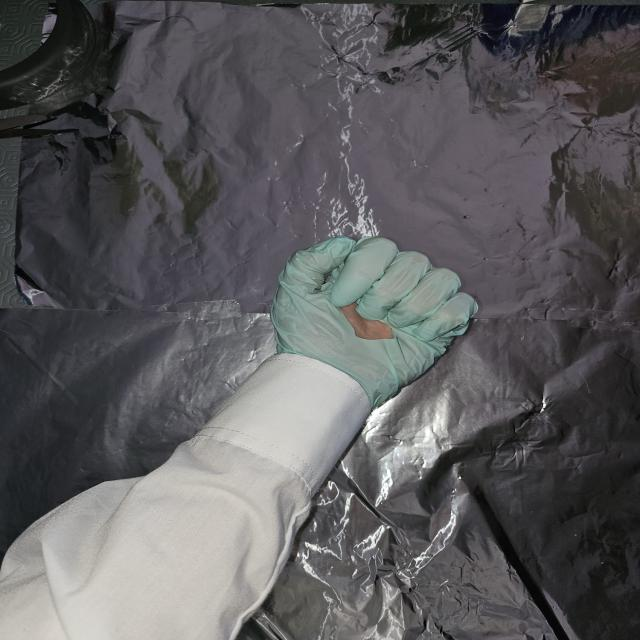gloves_damaged: (265, 234, 480, 410)
